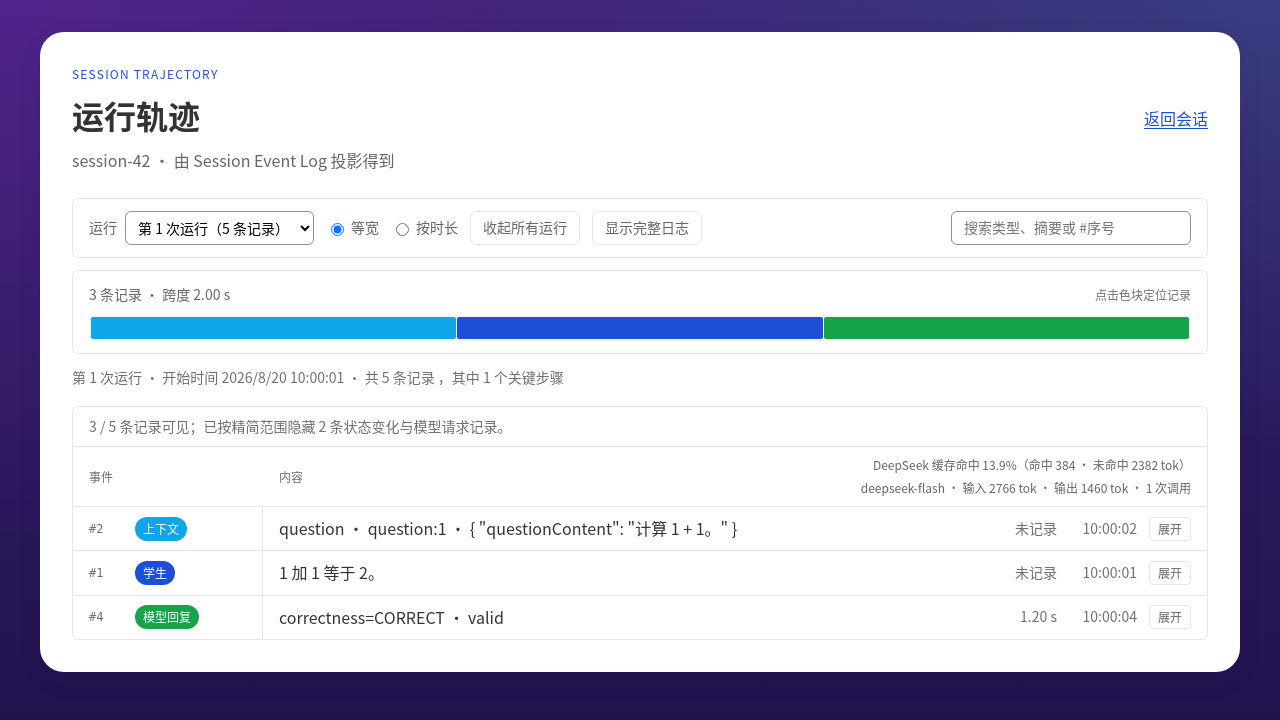
Test case: SessionEventLogView › 账本范围与窗口不改变表头统计口径，始终按当前运行聚合
Click the button with class "toolbar-button" showing "显示完整日志" at [647, 228], box x1=592 y1=211 x2=702 y2=245
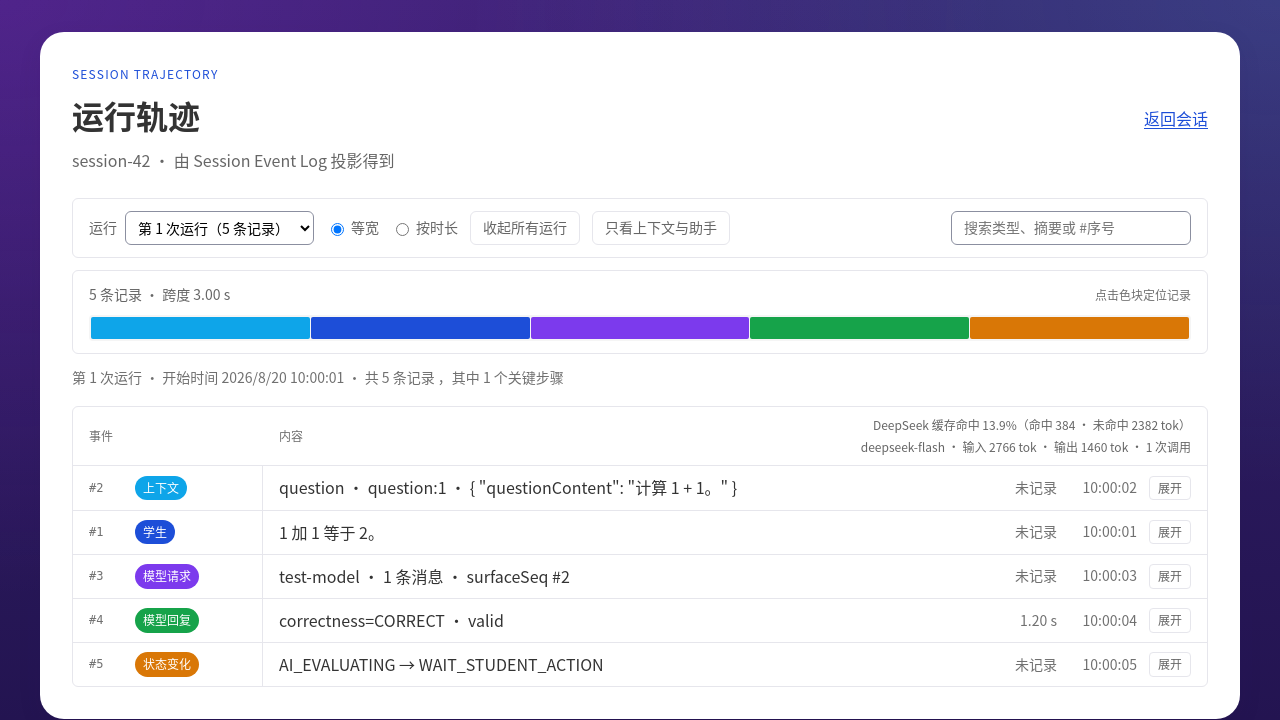
Expected: the number of elements with class "record-row" is 5, x1=73 y1=466 x2=1207 y2=510; x1=73 y1=510 x2=1207 y2=554; x1=73 y1=554 x2=1207 y2=598; x1=73 y1=598 x2=1207 y2=642; x1=73 y1=642 x2=1207 y2=686
